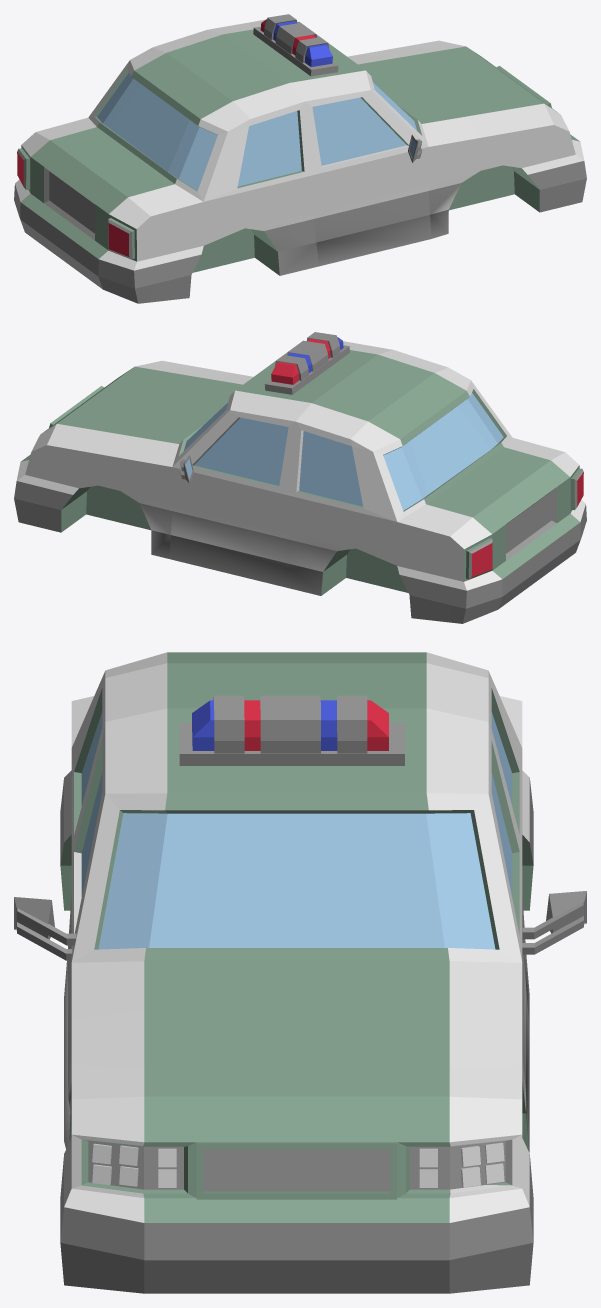
The model's file is PolizeiKlein.fbx.
3 renders of one model, top to bottom at view 1: azimuth 30°, elevation 25°; view 2: azimuth 150°, elevation 25°; view 3: azimuth 270°, elevation 25°, orthographic. The views are drawn at different scales.
Visible parts, largest first — view 1: PolizeiKlein; view 2: PolizeiKlein; view 3: PolizeiKlein.
Boxes of the visible parts, box(x1,y1,x2,y2) form: PolizeiKlein: box(14, 14, 586, 303); PolizeiKlein: box(14, 332, 586, 623); PolizeiKlein: box(14, 652, 586, 1293).
Size of the model in its own units: 16.06 by 8.4 by 5.88.
